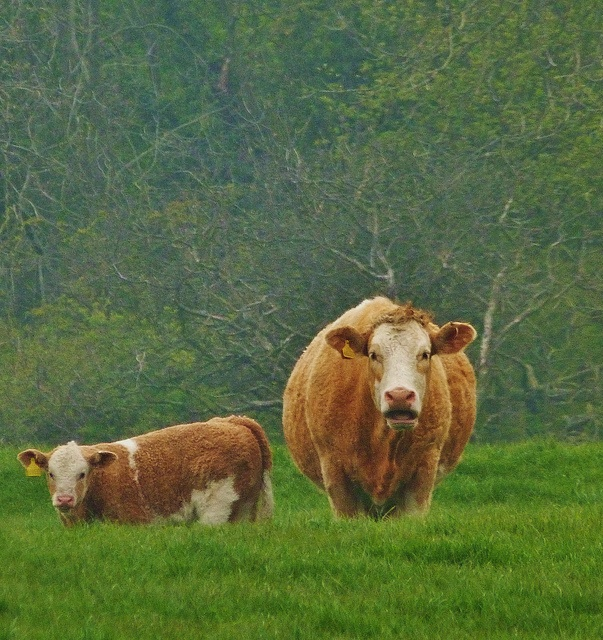cow: (282, 296, 603, 640)
